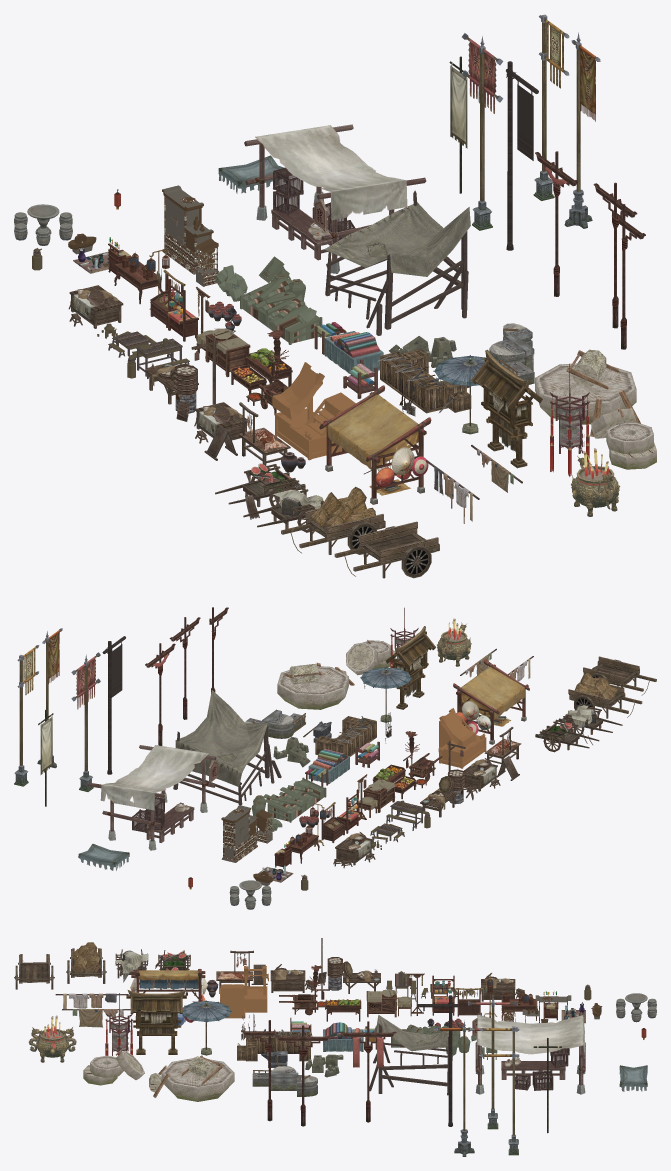
File: chinese_market.glb
3 views of the same model, one above another, from view 1: azimuth 30°, elevation 25°; view 2: azimuth 150°, elevation 25°; view 3: azimuth 270°, elevation 25° (orthographic). The views are drawn at different scales.
Visible parts, largest first — view 1: FrontSide_0 (×26), FrontSide_1 (×5); view 2: FrontSide_0 (×27), FrontSide_1 (×6); view 3: FrontSide_0 (×29), FrontSide_1 (×6).
Part boxes in pixels (x1,y1,x2,y2): FrontSide_0 (×26): (14, 14, 656, 578); FrontSide_1 (×5): (108, 125, 423, 519); FrontSide_0 (×27): (14, 607, 656, 909); FrontSide_1 (×6): (100, 666, 595, 868); FrontSide_0 (×29): (14, 938, 656, 1156); FrontSide_1 (×6): (115, 950, 584, 1066).
Size of the model in its own units: 19.69 by 6.39 by 27.18.
Materials: 42 (42 with a texture image).
